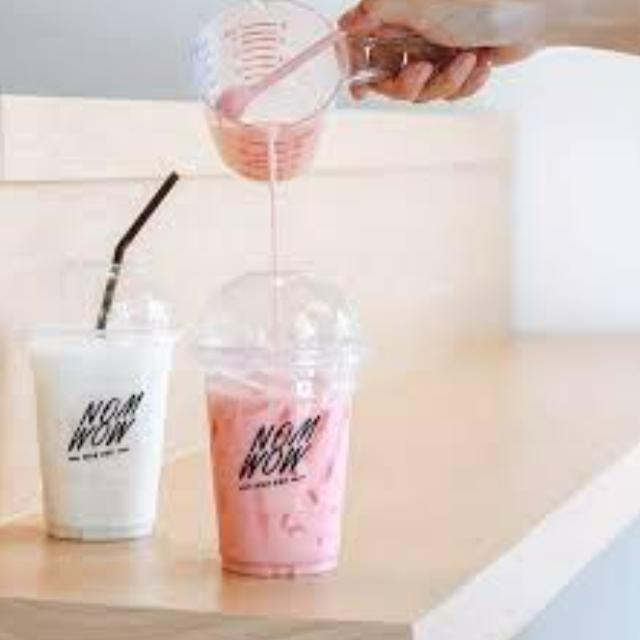GelasPlastik: (196, 269, 362, 578), (23, 256, 179, 544)
